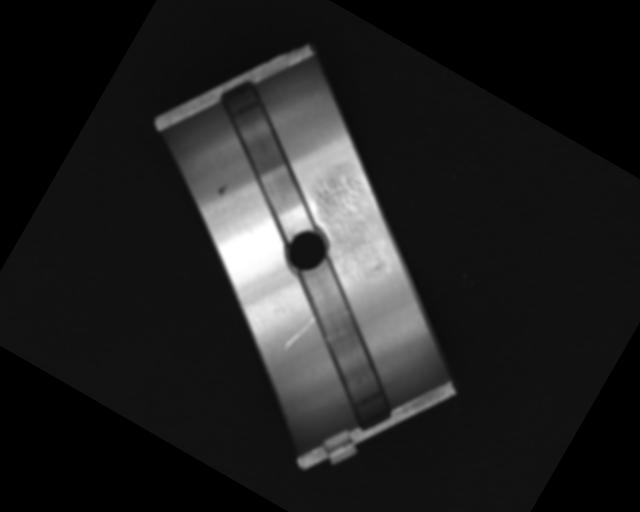bruise: (215, 181, 230, 198)
gap: (248, 255, 437, 429), (176, 75, 356, 243)
hole: (276, 220, 335, 280)
nick: (284, 311, 315, 355)
scratch: (286, 164, 419, 293)
